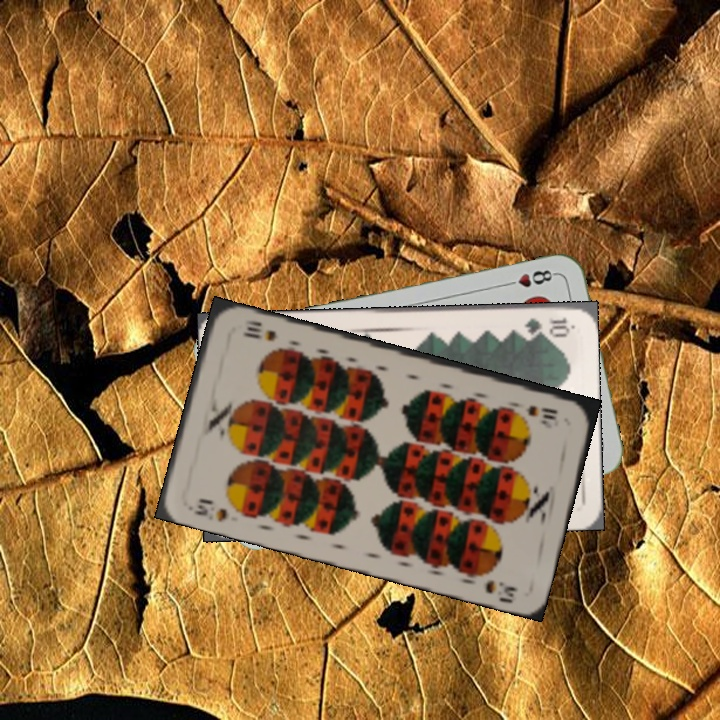G10: (520, 313, 572, 337)
H8: (500, 266, 559, 290)
S10: (190, 494, 230, 525), (521, 401, 560, 423)
